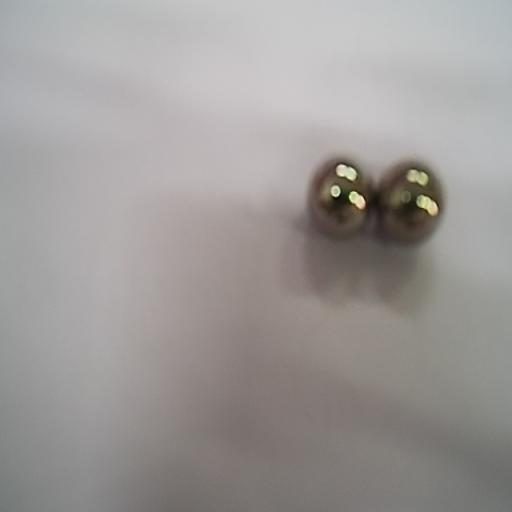steel-ball: (309, 156, 372, 240), (384, 160, 444, 243)
